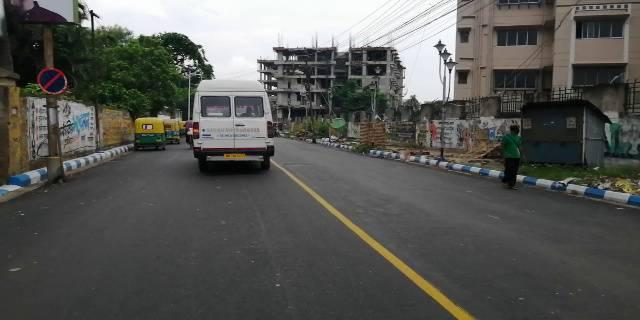Autorickshaw: (129, 118, 175, 149)
Car: (185, 81, 288, 170)
